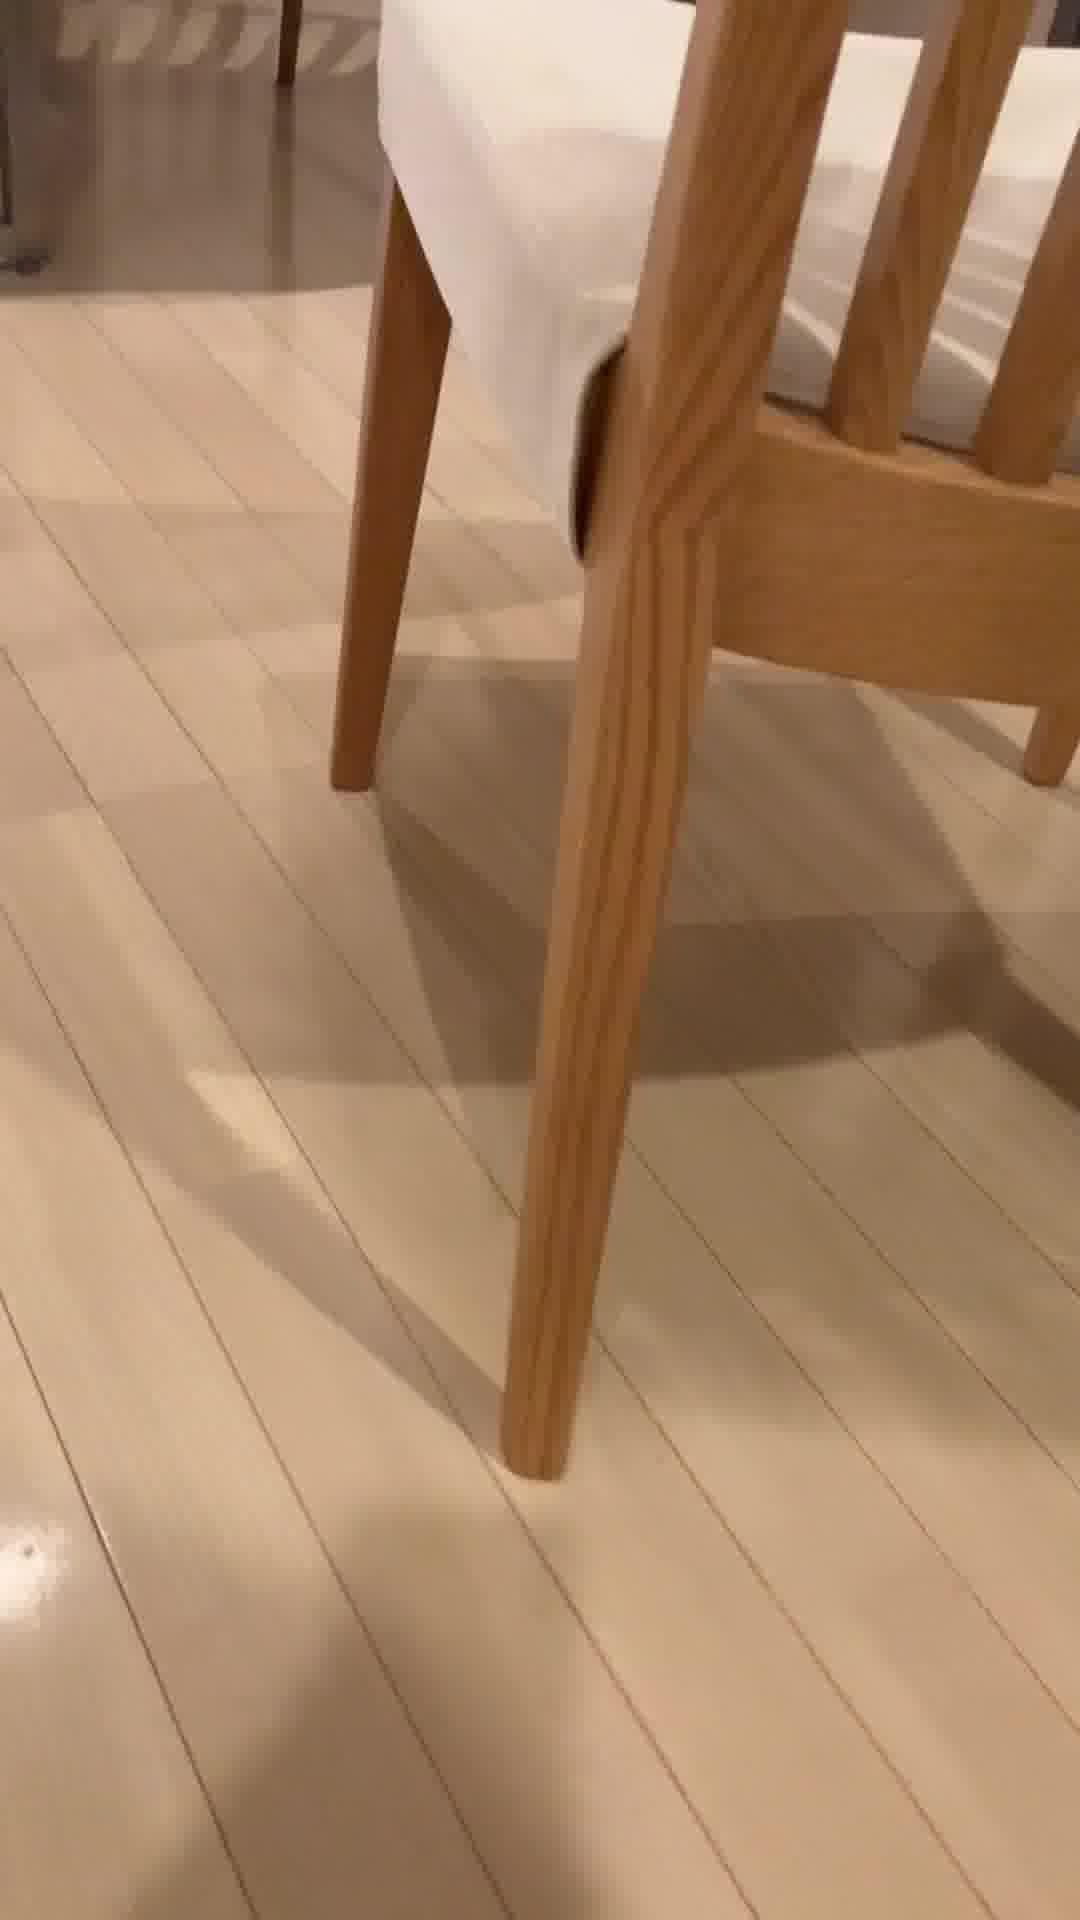takumikan-chair: (322, 0, 1080, 1486)
